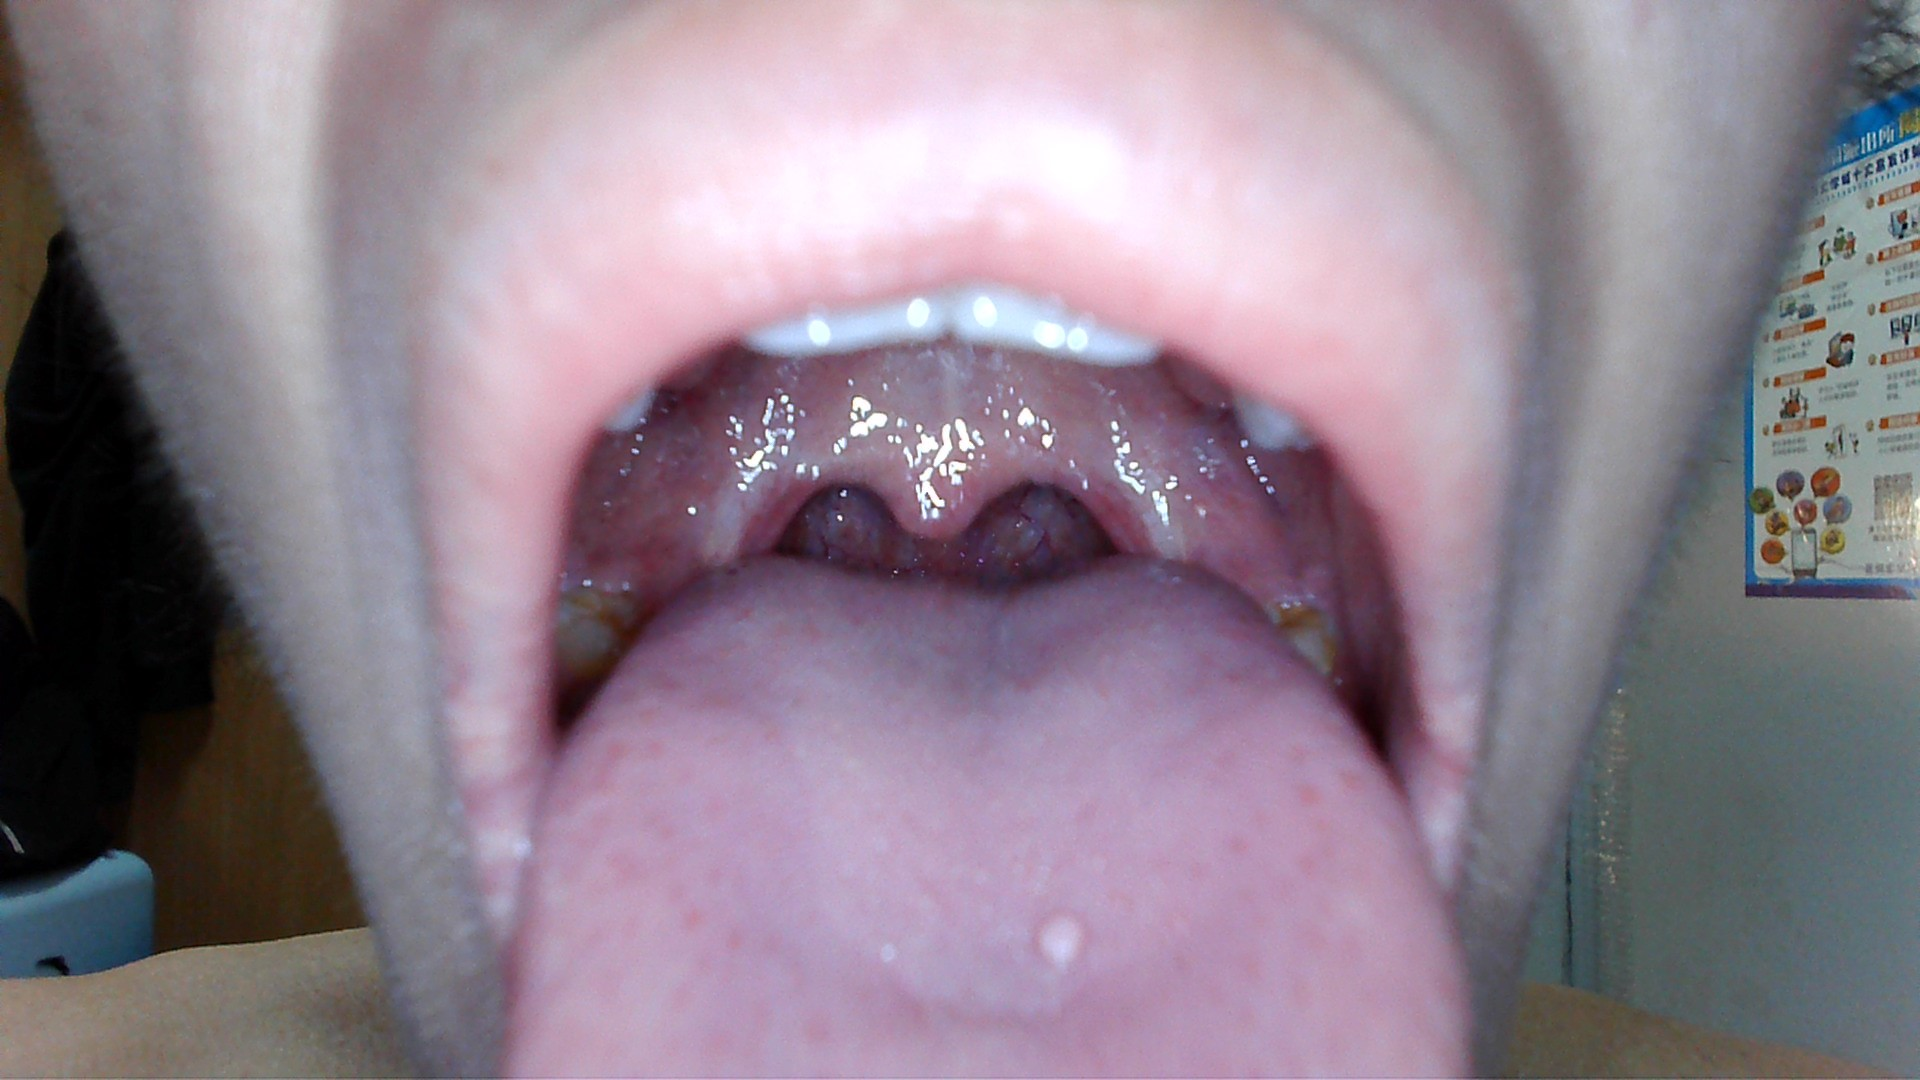throat: (1058, 444, 1174, 556), (717, 444, 825, 560)
